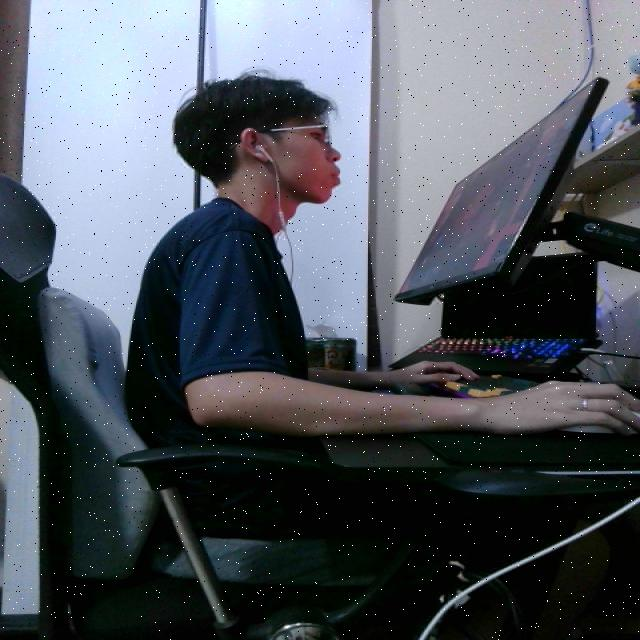Good: (103, 41, 467, 488)
